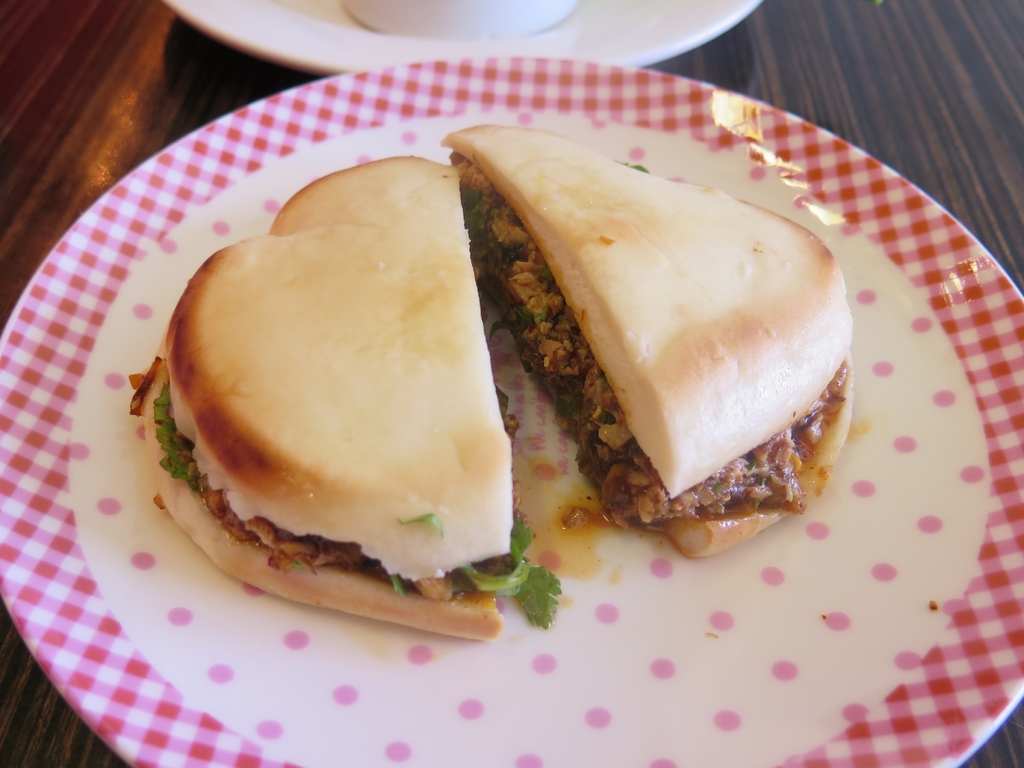Hamburger: (126, 151, 560, 637), (434, 121, 856, 557)
